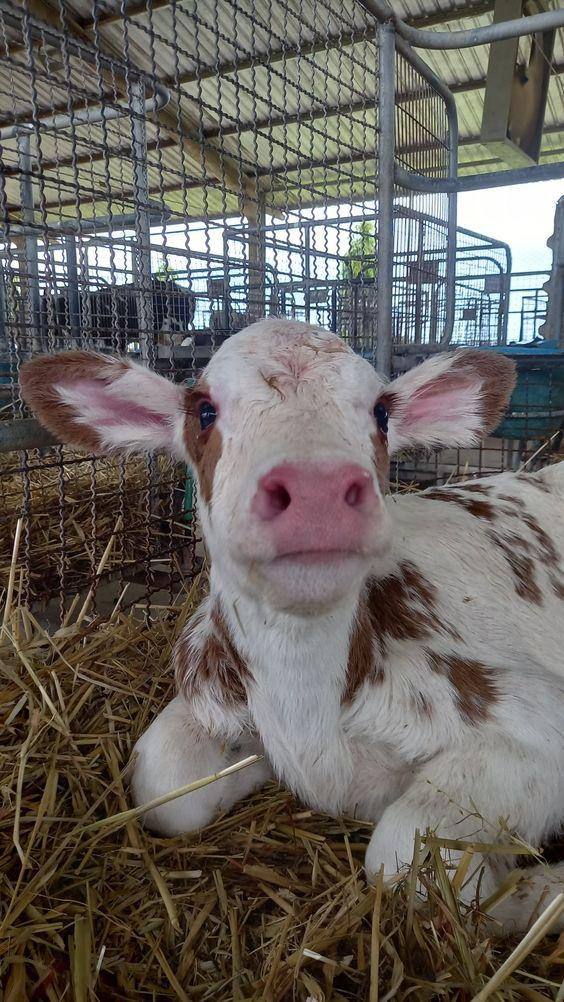cow: (63, 270, 564, 863)
